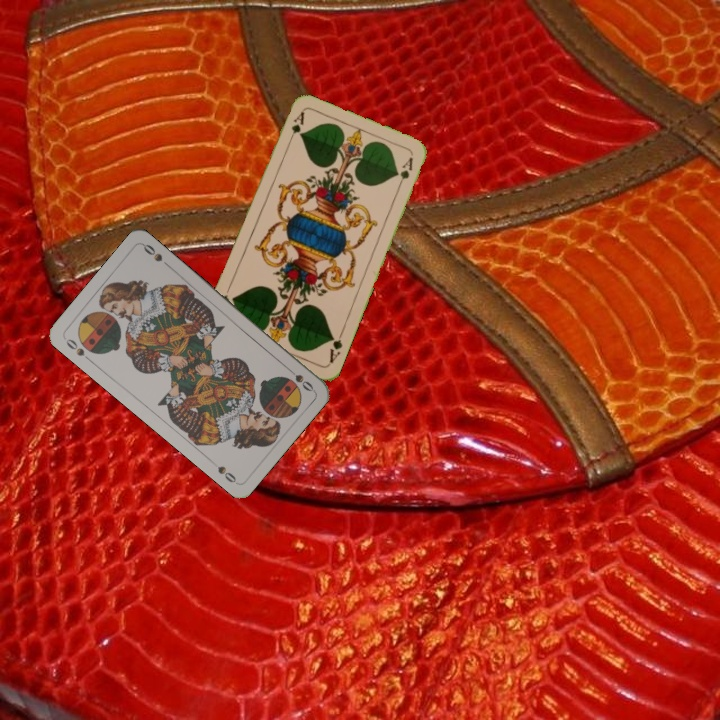GA: (284, 107, 307, 146), (325, 327, 346, 366)
SO: (282, 363, 316, 394), (62, 335, 94, 365)
